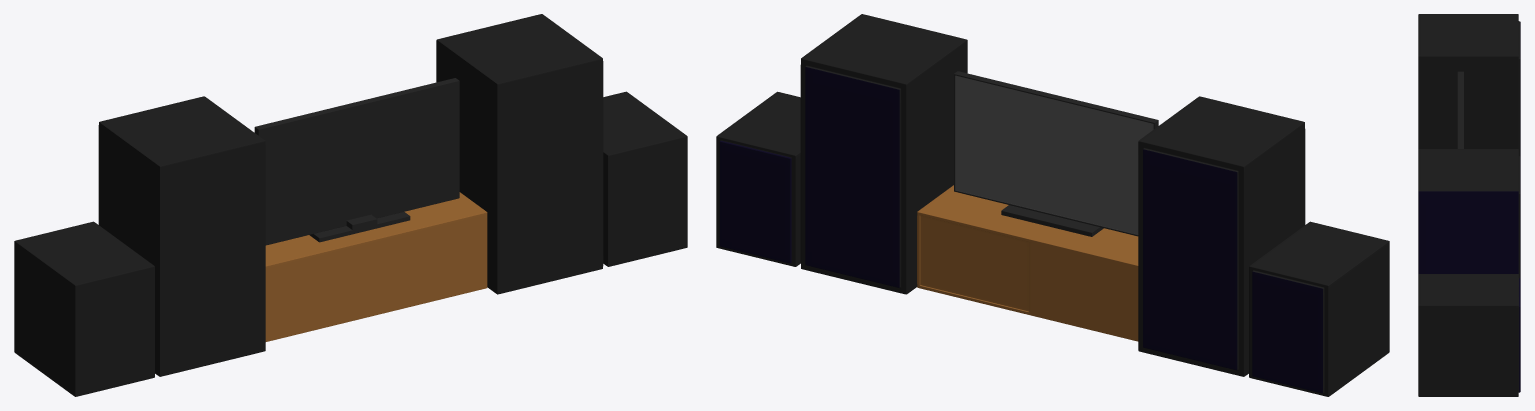
File: TVwithspeakerfbx.fbx
3 renders of one model, left to right at view 1: azimuth 30°, elevation 25°; view 2: azimuth 150°, elevation 25°; view 3: azimuth 270°, elevation 25°, orthographic. The views are drawn at different scales.
Visible parts, largest first — view 1: Cube.039, Cube.040, Cube.041, Cube.044, Cube.042, Cube.043; view 2: Cube.040, Cube.039, Cube.041, Cube.042, Cube.044, Cube.043; view 3: Cube.039, Cube.040, Cube.043, Cube.041.
Part boxes in pixels (bbox=[...]): Cube.039: bbox=[98, 96, 265, 376]; Cube.040: bbox=[436, 14, 603, 294]; Cube.041: bbox=[254, 78, 459, 245]; Cube.044: bbox=[14, 221, 154, 396]; Cube.042: bbox=[265, 192, 487, 341]; Cube.043: bbox=[603, 91, 687, 266]; Cube.040: bbox=[800, 14, 967, 294]; Cube.039: bbox=[1138, 96, 1305, 376]; Cube.041: bbox=[954, 71, 1158, 236]; Cube.042: bbox=[917, 185, 1138, 341]; Cube.044: bbox=[1249, 221, 1389, 396]; Cube.043: bbox=[716, 91, 800, 266]; Cube.039: bbox=[1418, 14, 1520, 156]; Cube.040: bbox=[1418, 149, 1520, 278]; Cube.043: bbox=[1418, 274, 1520, 396]; Cube.041: bbox=[1457, 71, 1463, 148].
Size of the model in its own units: 754 by 248 by 133.
